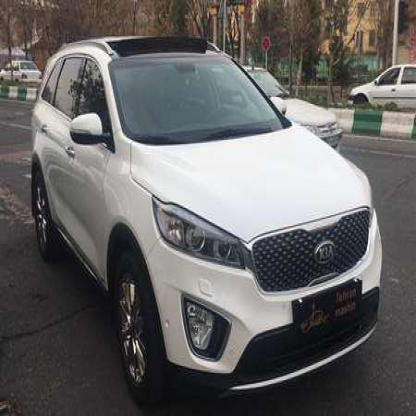car: (33, 16, 387, 408), (241, 60, 343, 155), (350, 60, 415, 111), (0, 47, 43, 92)
